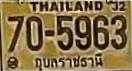0: (25, 15, 42, 50)
3: (110, 14, 126, 49)
5: (56, 14, 72, 50)
6: (92, 14, 108, 49)
7: (7, 15, 23, 51)
9: (74, 14, 90, 49)
UBN: (34, 51, 110, 71)
